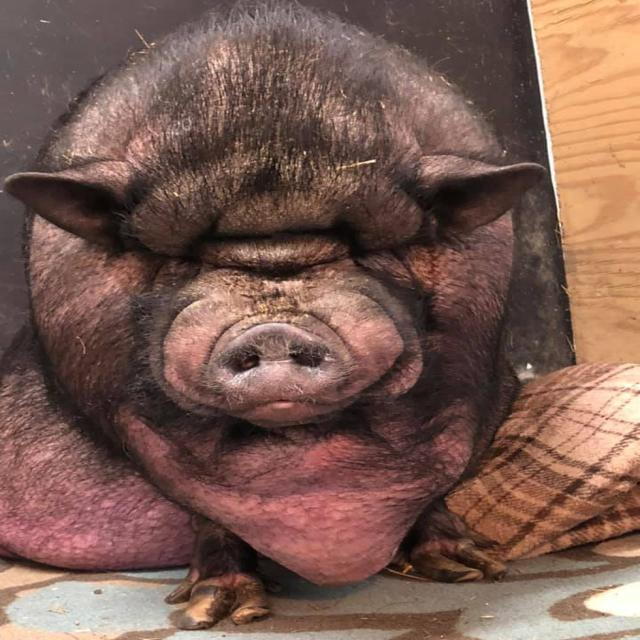Pig: (0, 0, 542, 628)
